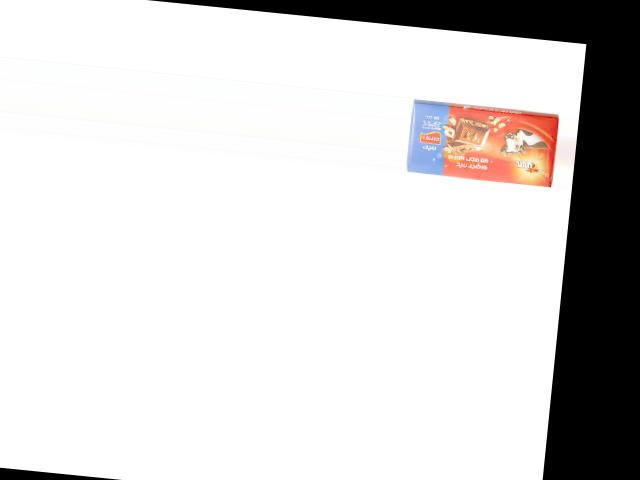chocolate: (406, 99, 560, 186)
